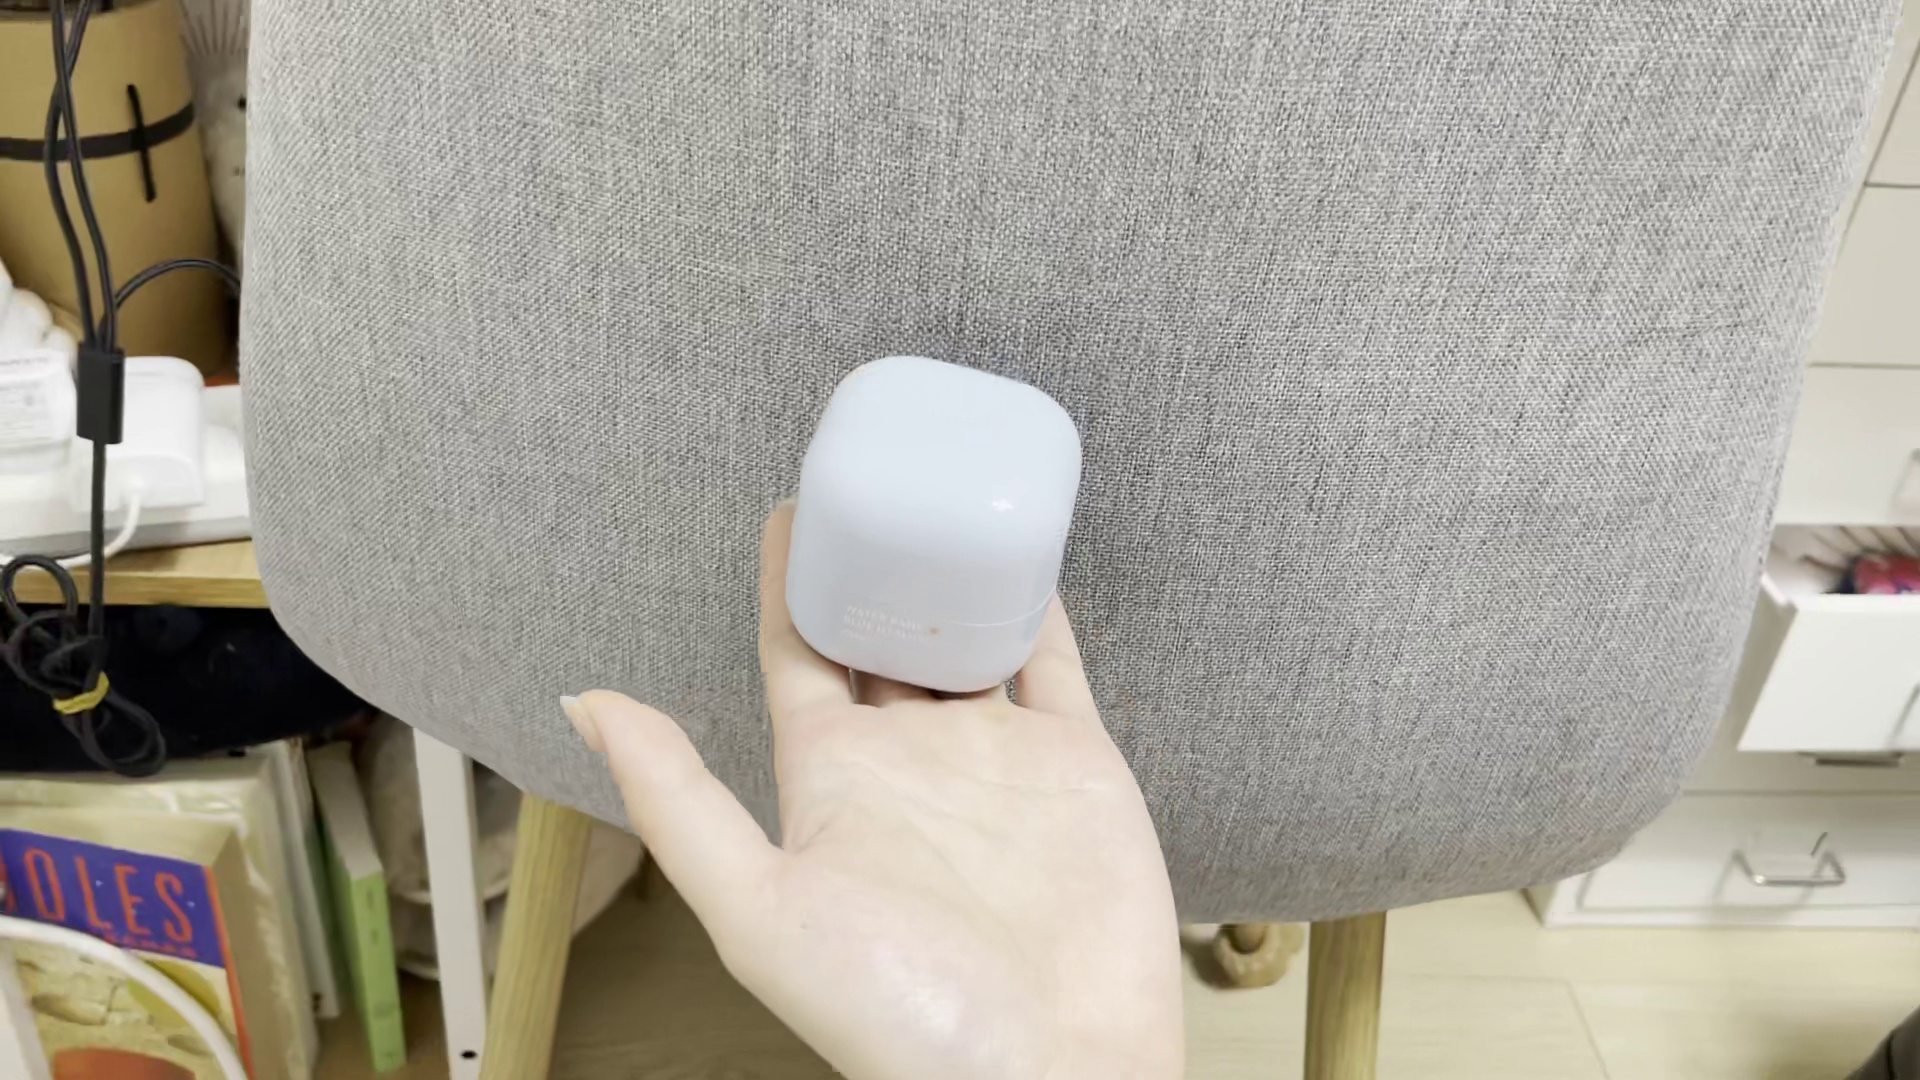cream: (786, 352, 1077, 690)
